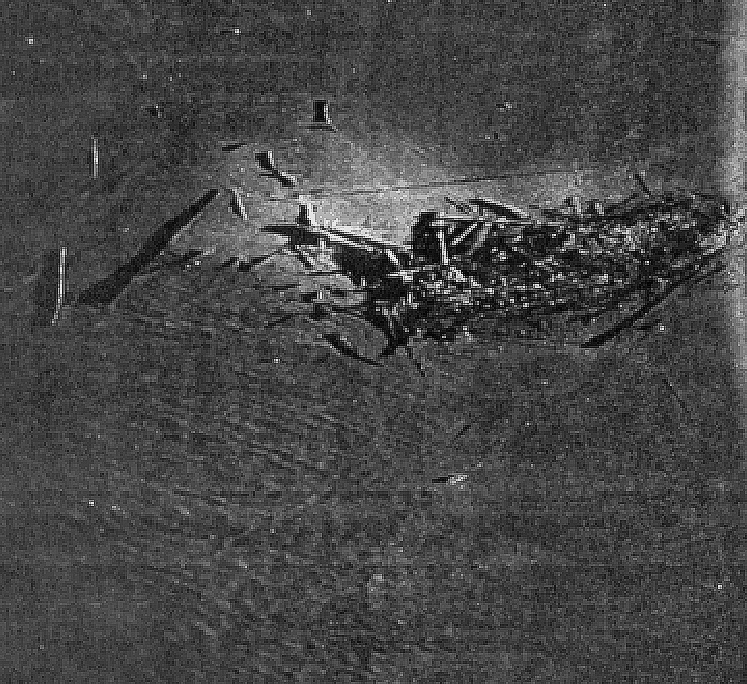ship: (259, 188, 742, 368)
